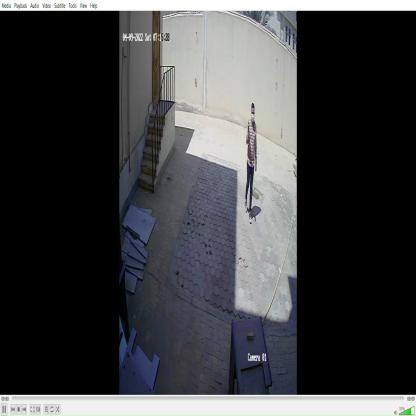handgun: (246, 116, 252, 144)
